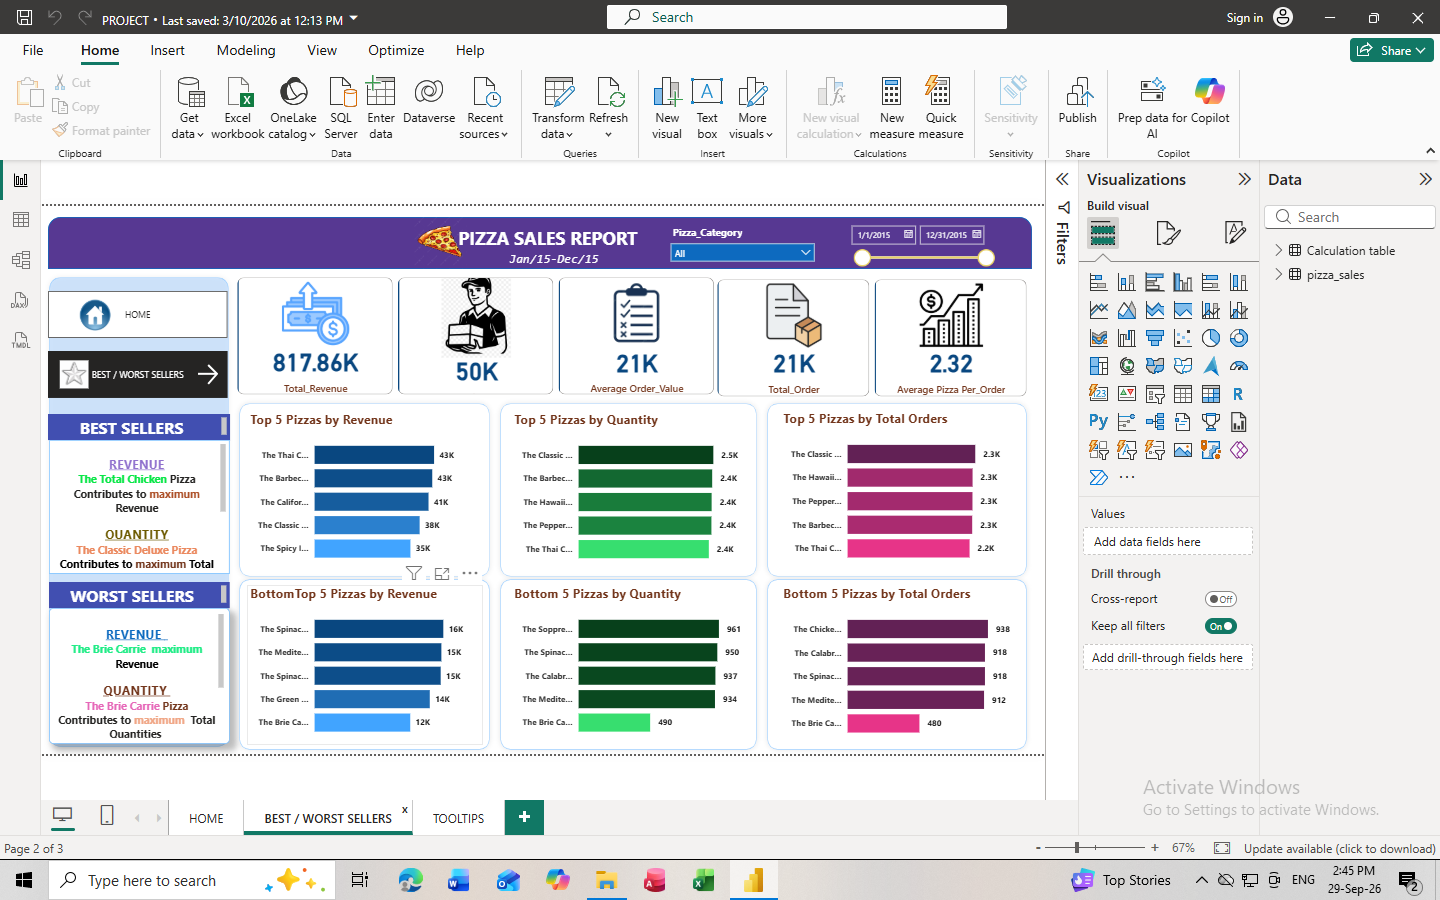

Layout of this report page (visuals, bound fields, positions):
{"tool":"powerbi","page":{"name":"BEST / WORST SELLERS","canvas":[1500,820],"ordinal":1},"visuals":[{"type":"shape","box":[10.5,16.4,1470.1,77.7],"z":0},{"type":"cardVisual","fields":{"Data":["Calculation table.Total_Revenue","Calculation table.Total_Pizza Sold","Calculation table.Average Order_Value"]},"box":[288.3,101.7,723.2,185.6],"z":0,"group":"g1"},{"type":"textbox","box":[618.5,23.9,304.8,61.3],"z":1000},{"type":"cardVisual","fields":{"Data":["Calculation table.Total_Order","Calculation table.Average Pizza Per_Order"]},"box":[1005.8,104.3,473.3,185.6],"z":1000,"group":"g1"},{"type":"textbox","box":[694.7,62.7,206.2,61.3],"z":2000},{"type":"image","box":[408.3,9.1,375.7,90],"z":3000},{"type":"shape","box":[288.3,286.9,389.9,274.9],"z":4000},{"type":"group","id":"g1","title":"Group 1","box":[288.3,101.7,1190.9,189.1],"z":5000},{"type":"shape","box":[4.5,98.6,283.9,717.1],"z":6000},{"type":"textbox","box":[10.5,310.8,271.9,38.8],"z":7000},{"type":"textbox","box":[12,349.6,270.4,200.2],"z":8000},{"type":"textbox","box":[12,561.8,270.4,38.8],"z":9000},{"type":"textbox","box":[12,600.6,270.4,203.2],"z":10000},{"type":"slicer","fields":{"Values":["pizza_sales.pizza_category"]},"box":[930.8,23.9,234.6,61.3],"z":11000},{"type":"slicer","fields":{"Values":["pizza_sales.order_date"]},"box":[1198.2,19.4,234.6,74.7],"z":12000},{"type":"shape","box":[1077.2,286.9,403.4,274.9],"z":13000},{"type":"shape","box":[678.3,286.9,398.9,274.9],"z":14000},{"type":"shape","box":[288.3,549.8,389.9,270.4],"z":15000},{"type":"shape","box":[678.3,549.8,398.9,270.4],"z":16000},{"type":"shape","box":[1077.2,549.8,403.4,270.4],"z":17000},{"type":"barChart","title":"Top 5 Pizzas by Revenue","fields":{"Category":["pizza_sales.pizza_name"],"Y":["Calculation table.Total_Revenue"]},"box":[307.8,306.3,352.6,239],"z":18000},{"type":"barChart","title":" BottomTop 5 Pizzas by Revenue","fields":{"Category":["pizza_sales.pizza_name"],"Y":["Calculation table.Total_Revenue"]},"box":[307.8,566.2,352.6,239],"z":19000},{"type":"barChart","title":"Top 5 Pizzas by Quantity","fields":{"Category":["pizza_sales.pizza_name"],"Y":["Calculation table.Total_Pizza Sold"]},"box":[701.7,306.5,352.2,240],"z":20000},{"type":"barChart","title":"Bottom 5 Pizzas by Quantity","fields":{"Category":["pizza_sales.pizza_name"],"Y":["Calculation table.Total_Pizza Sold"]},"box":[702.2,566.2,352.6,239],"z":21000},{"type":"barChart","title":"Top 5 Pizzas by Total Orders","fields":{"Category":["pizza_sales.pizza_name"],"Y":["Calculation table.Total_Order"]},"box":[1103.5,305,351.7,240.4],"z":22000},{"type":"barChart","title":"Bottom 5 Pizzas by Total Orders","fields":{"Category":["pizza_sales.pizza_name"],"Y":["Calculation table.Total_Order"]},"box":[1104.1,566.2,352.6,240.5],"z":23000},{"type":"pageNavigator","box":[10.5,216.6,268.9,70.2],"z":24000},{"type":"pageNavigator","box":[10.5,127,268.9,70.2],"z":25000},{"type":"actionButton","box":[228.6,231.6,100.1,40.3],"z":26000},{"type":"image","box":[13.4,131.5,134.5,62.7],"z":27000},{"type":"image","box":[0,225.6,98.6,52.3],"z":28000}]}

Visuals, with their boxes on the page's 1500x820 design canvas (x1, y1, x2, y2). These are canvas units, not pixel positions in the 1440x900 screenshot, which may show the page scaled, cropped or inside an application window:
shape: locate(10, 16, 1481, 94)
cardVisual - Calculation table.Total_Revenue x Calculation table.Total_Pizza Sold: locate(288, 102, 1012, 287)
textbox: locate(618, 24, 923, 85)
cardVisual - Calculation table.Total_Order x Calculation table.Average Pizza Per_Order: locate(1006, 104, 1479, 290)
textbox: locate(695, 63, 901, 124)
image: locate(408, 9, 784, 99)
shape: locate(288, 287, 678, 562)
"Group 1" group: locate(288, 102, 1479, 291)
shape: locate(4, 99, 288, 816)
textbox: locate(10, 311, 282, 350)
textbox: locate(12, 350, 282, 550)
textbox: locate(12, 562, 282, 601)
textbox: locate(12, 601, 282, 804)
slicer - pizza_sales.pizza_category: locate(931, 24, 1165, 85)
slicer - pizza_sales.order_date: locate(1198, 19, 1433, 94)
shape: locate(1077, 287, 1481, 562)
shape: locate(678, 287, 1077, 562)
shape: locate(288, 550, 678, 820)
shape: locate(678, 550, 1077, 820)
shape: locate(1077, 550, 1481, 820)
"Top 5 Pizzas by Revenue" barChart: locate(308, 306, 660, 545)
" BottomTop 5 Pizzas by Revenue" barChart: locate(308, 566, 660, 805)
"Top 5 Pizzas by Quantity" barChart: locate(702, 306, 1054, 546)
"Bottom 5 Pizzas by Quantity" barChart: locate(702, 566, 1055, 805)
"Top 5 Pizzas by Total Orders" barChart: locate(1104, 305, 1455, 545)
"Bottom 5 Pizzas by Total Orders" barChart: locate(1104, 566, 1457, 807)
pageNavigator: locate(10, 217, 279, 287)
pageNavigator: locate(10, 127, 279, 197)
actionButton: locate(229, 232, 329, 272)
image: locate(13, 132, 148, 194)
image: locate(0, 226, 99, 278)
